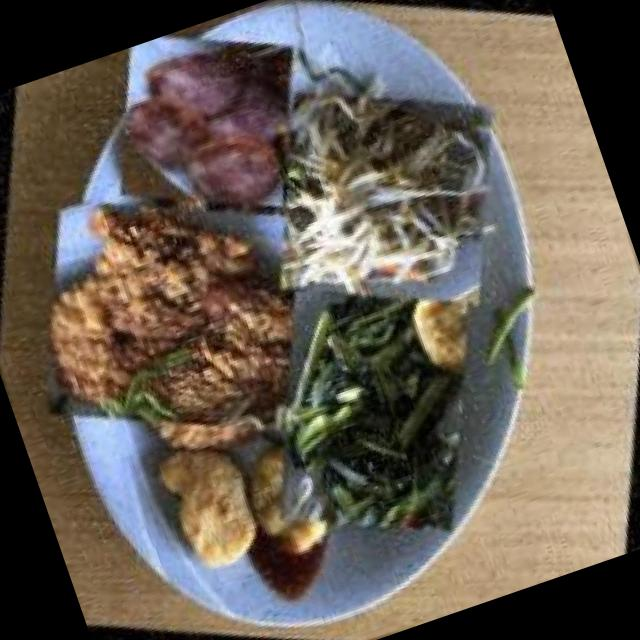chicken_nuggets: (118, 387, 375, 626)
chinese_sausage: (72, 0, 340, 256)
fried_chicken: (0, 116, 384, 516)
mung_bean_sprouts: (217, 29, 551, 363)
water_spinach: (208, 236, 539, 586)
